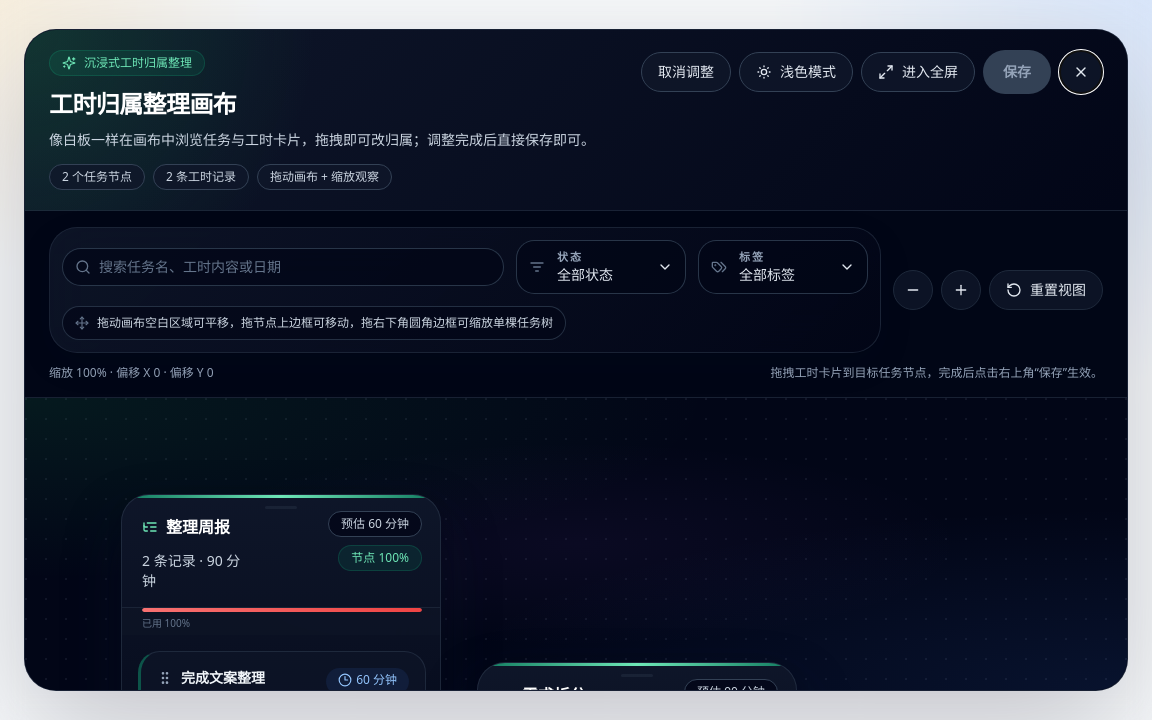
it: WorkLogTimeCanvasDialog › 支持缩放、拖动画布并重置视图
Expected: the text "缩放 100% · 偏移 X 0 · 偏移 Y 0" is shown, [49,365,214,381]
Click the button named "放大视图" at (961, 290), box [941,270,981,310]
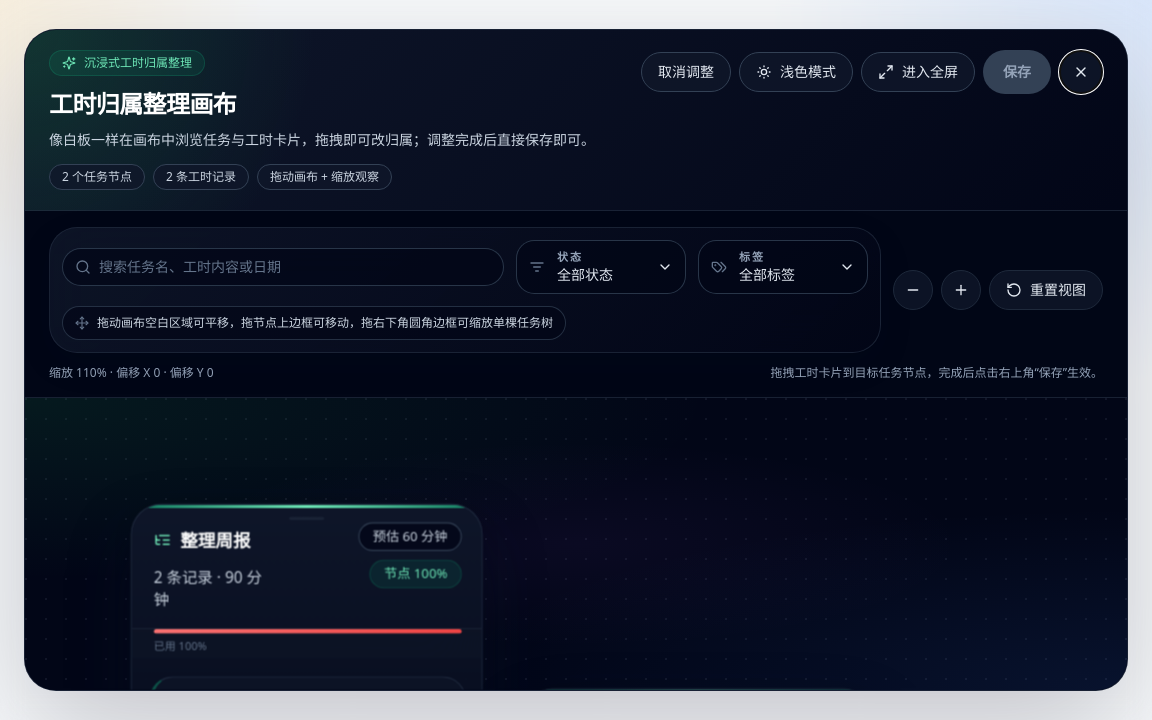
Expected: the text "缩放 110% · 偏移 X 0 · 偏移 Y 0" is shown, [49,365,214,381]
Press the mouse on the element named "工时归属画布视口" at (576, 544), box [25,398,1127,690]
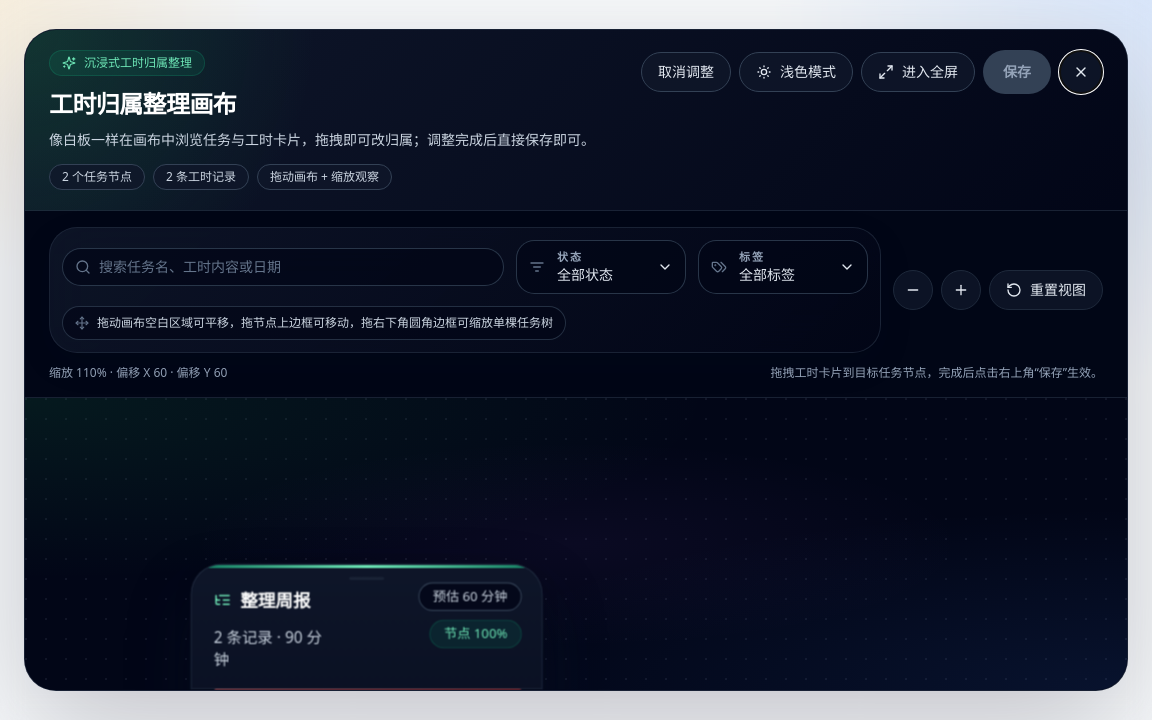
Expected: the text "缩放 110% · 偏移 X 60 · 偏移 Y 60" is shown, [49,365,227,381]
Click the button "重置视图" at (1046, 290), box [989,270,1103,310]
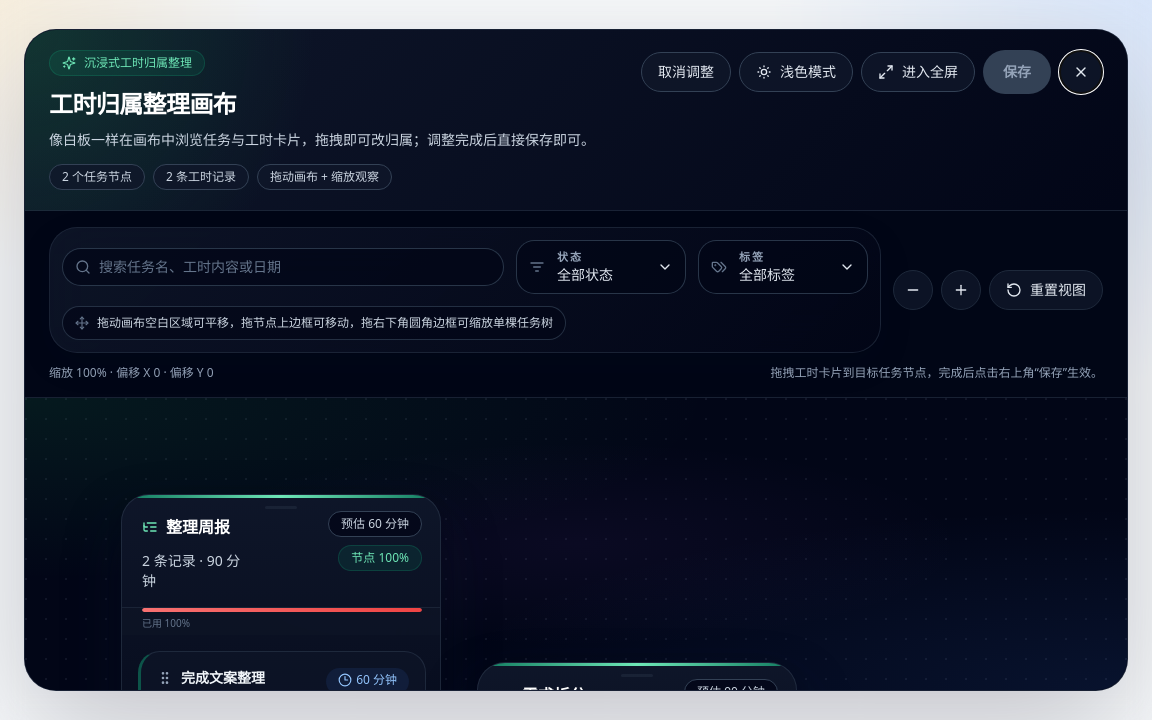
Expected: the text "缩放 100% · 偏移 X 0 · 偏移 Y 0" is shown, [49,365,214,381]
